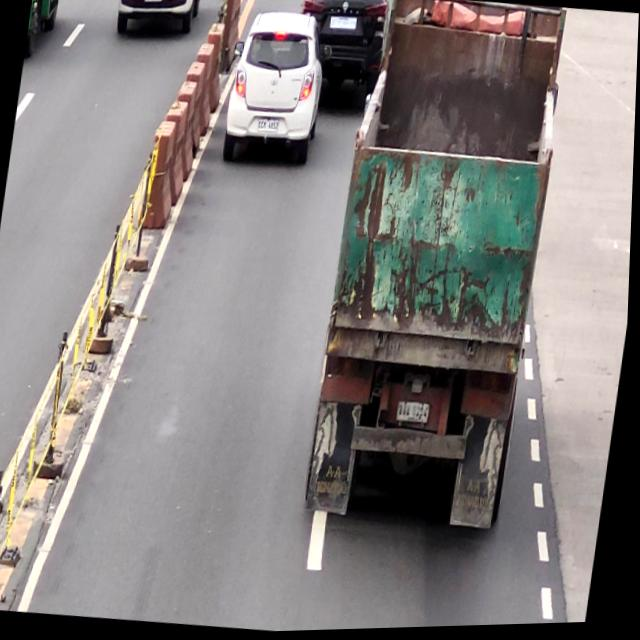Car: (218, 3, 338, 174), (291, 0, 393, 96)
License-Plate: (397, 403, 433, 427), (329, 15, 357, 34), (257, 116, 281, 136)
Truck: (304, 0, 575, 543)
